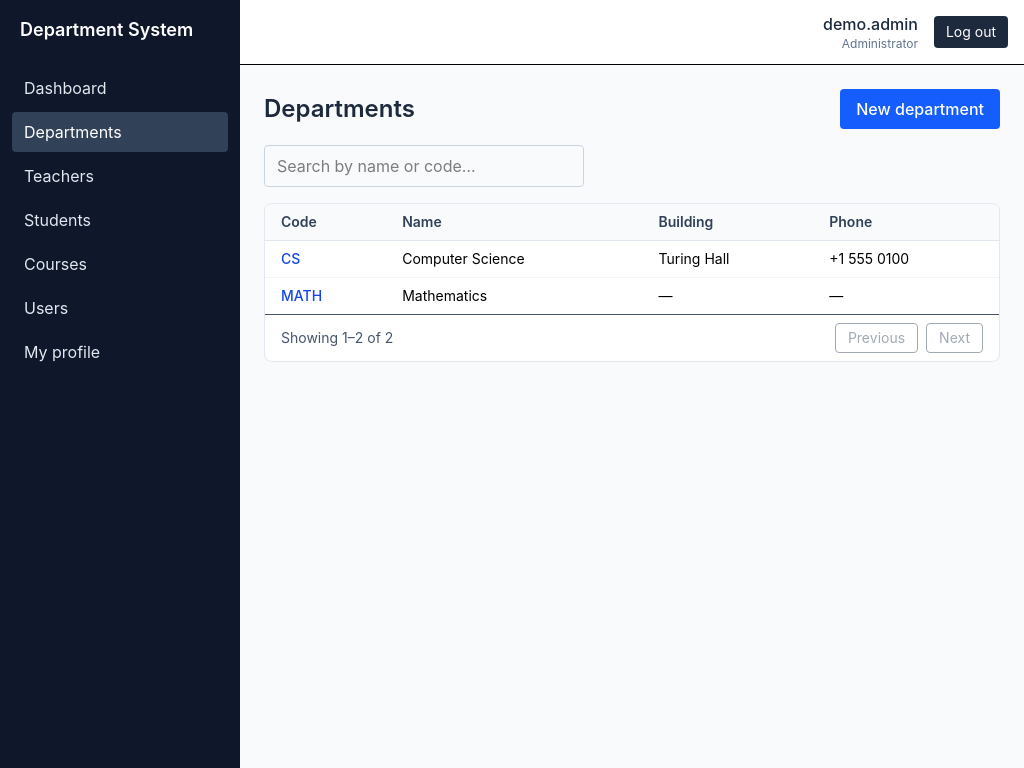
Test case: Department form (create) › shows a duplicate-code 409 under the code field
Click the button "New department".
click(920, 109)  # box [840,89,1000,129]
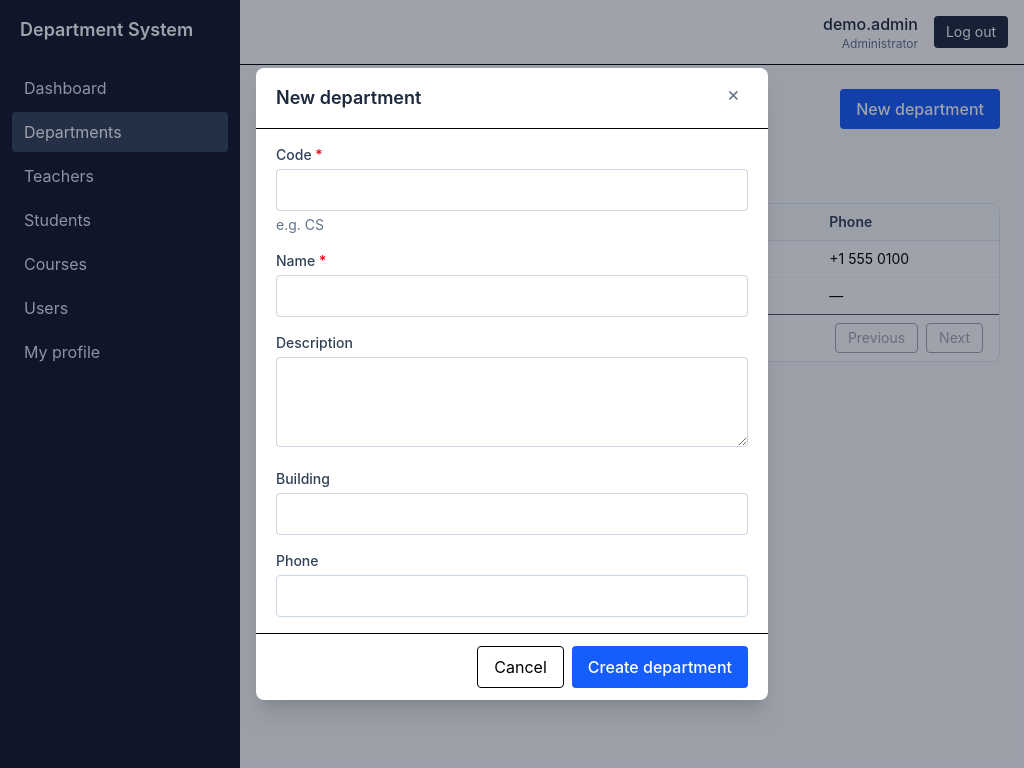
Type "cs" into the field labelled "Code *".
click(512, 190); type("cs")  # box [276,169,748,211]
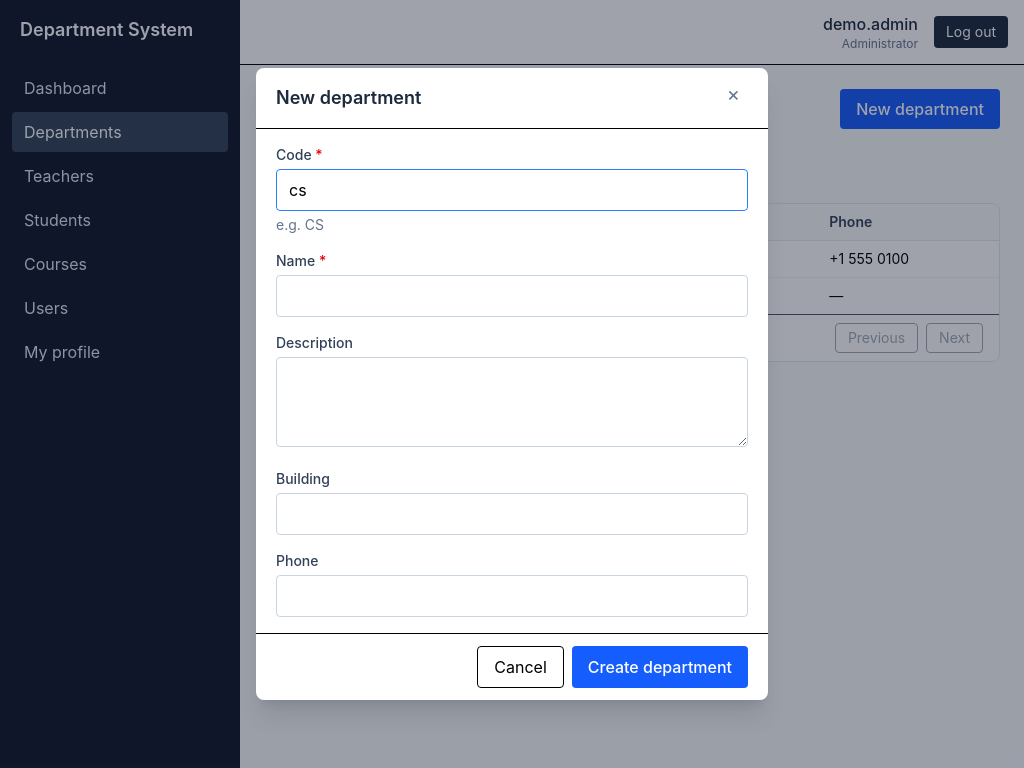
Type "Another" into the field labelled "Name *".
click(512, 296); type("Another")  # box [276,275,748,317]
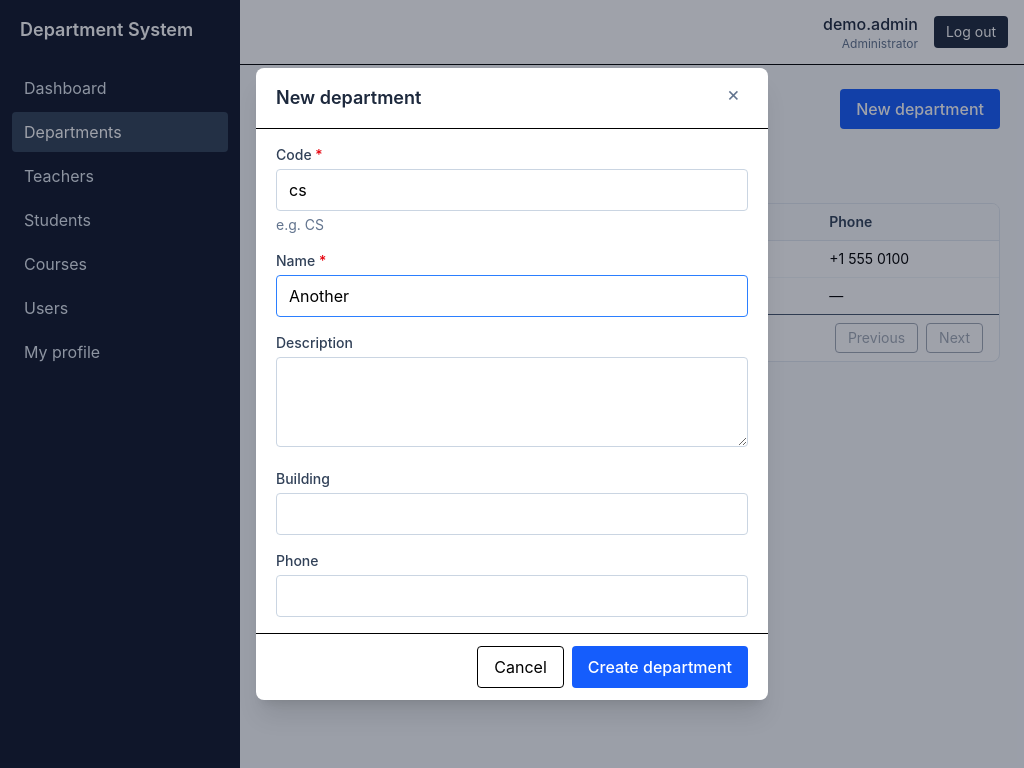
Click the button "Create department".
click(660, 667)  # box [572,646,748,688]
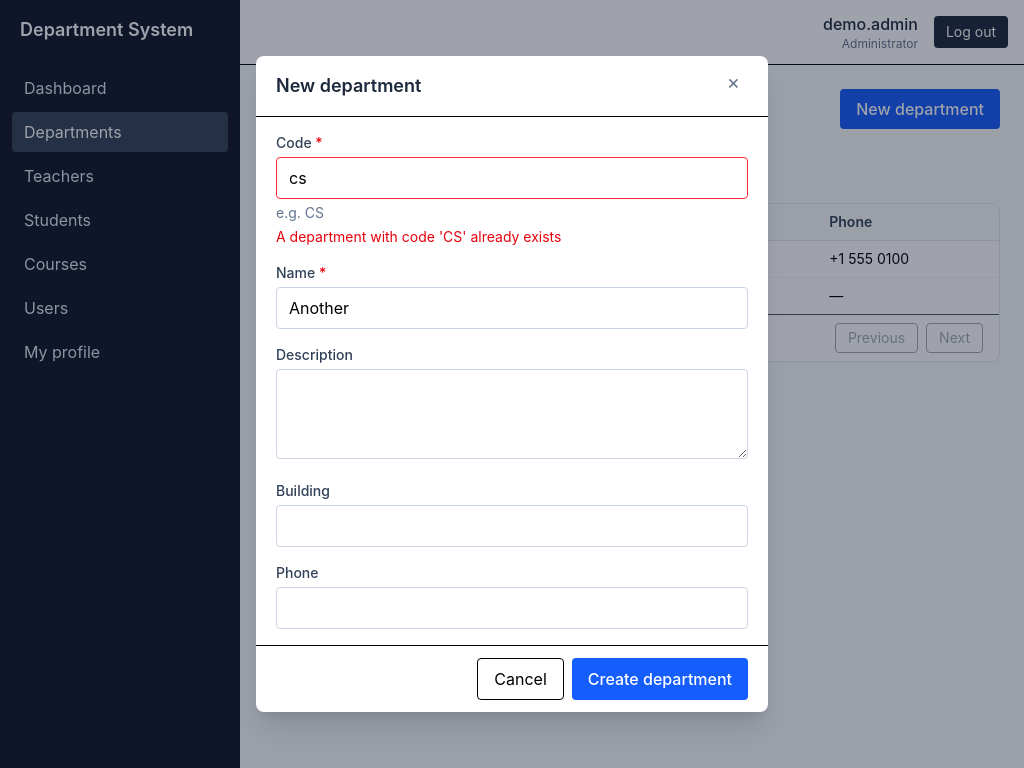
Check: the dialog is shown, box [256,56,768,712]
Check: the text "A department with code 'CS' already exists" is shown, box [276,228,561,245]
